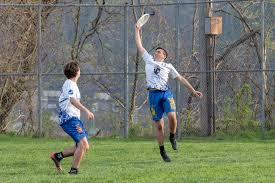disc: (136, 13, 150, 30)
